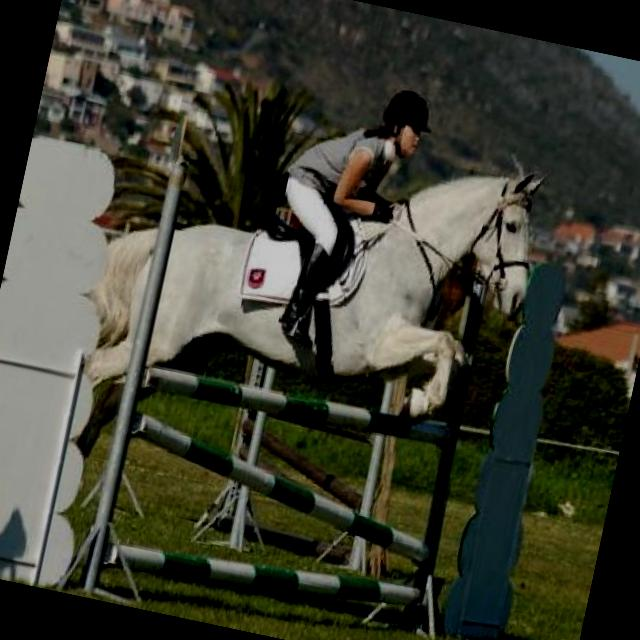Person: (249, 64, 442, 360)
